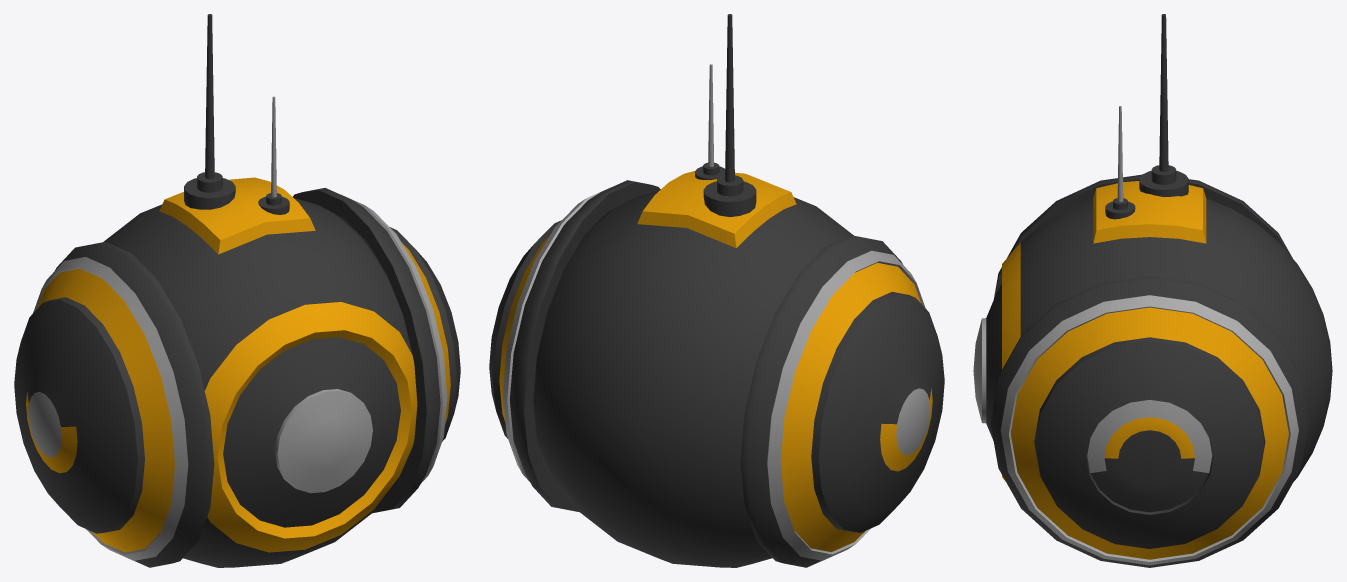
The model's file is enemie_base.fbx.
3 views of the same model, side by side, from view 1: azimuth 30°, elevation 25°; view 2: azimuth 150°, elevation 25°; view 3: azimuth 270°, elevation 25° (orthographic). The views are drawn at different scales.
Visible parts, largest first — view 1: pSphere1, pSphere4, pSphere3, pCylinder1, pCylinder2; view 2: pSphere1, pSphere4, pSphere3, pCylinder1, pCylinder2; view 3: pSphere3, pSphere1, pSphere4, pCylinder1, pCylinder2.
Boxes of the visible parts, x1,y1,x2,y2 form: pSphere1: (103,177,417,567); pSphere4: (14,241,214,567); pSphere3: (293,188,460,513); pCylinder1: (184,14,235,209); pCylinder2: (258,96,289,214); pSphere1: (533,170,853,567); pSphere4: (740,235,944,567); pSphere3: (489,180,660,511); pCylinder1: (703,14,756,216); pCylinder2: (695,64,725,179); pSphere3: (990,276,1308,567); pSphere1: (973,181,1332,481); pSphere4: (994,174,1292,298); pCylinder1: (1139,14,1188,196); pCylinder2: (1105,106,1135,219).
Size of the model in its own units: 0.0502 by 0.0666 by 0.0423.
